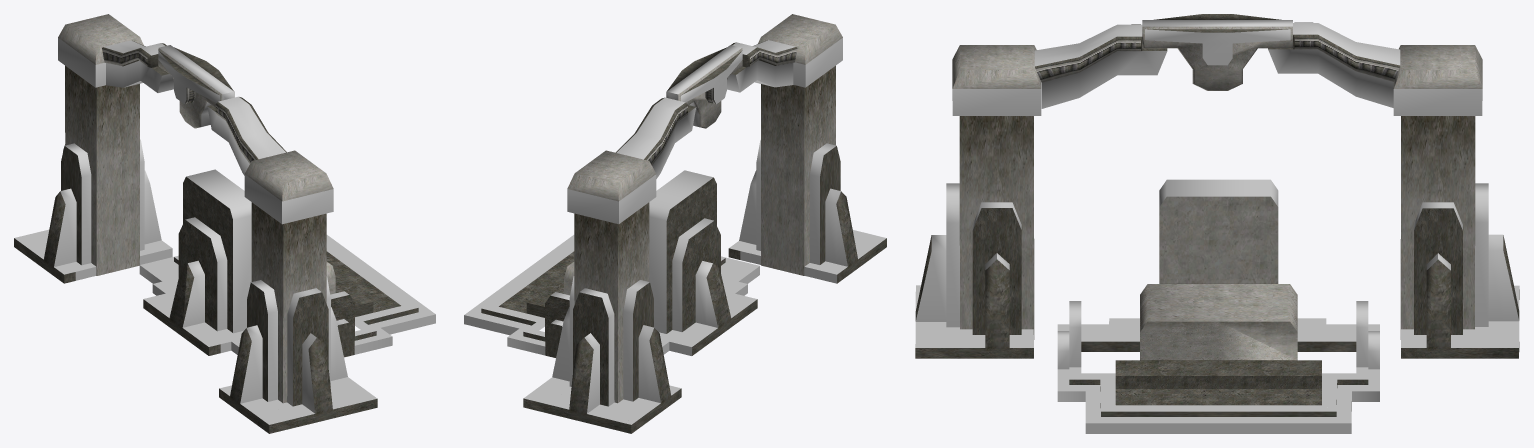
Rendered from DWARF_PALACE_MAINHALL_THRONE.obj.
3 renders of one model, left to right at view 1: azimuth 30°, elevation 25°; view 2: azimuth 150°, elevation 25°; view 3: azimuth 270°, elevation 25°, orthographic. The views are drawn at different scales.
Parts seen in each view (by area): view 1: mainhall_throne; view 2: mainhall_throne; view 3: mainhall_throne.
Part boxes in pixels (box(x1,y1,x2,y2)): mainhall_throne: box(14, 14, 435, 433); mainhall_throne: box(464, 14, 886, 433); mainhall_throne: box(915, 14, 1519, 433).
Bounding box in the file's own units: 526 × 543 × 976.
